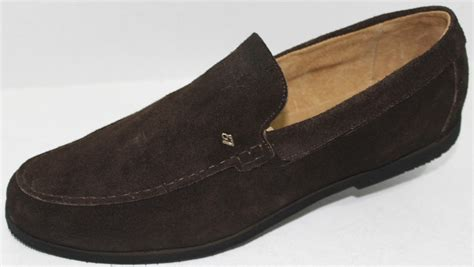gamuza: (6, 5, 469, 257)
